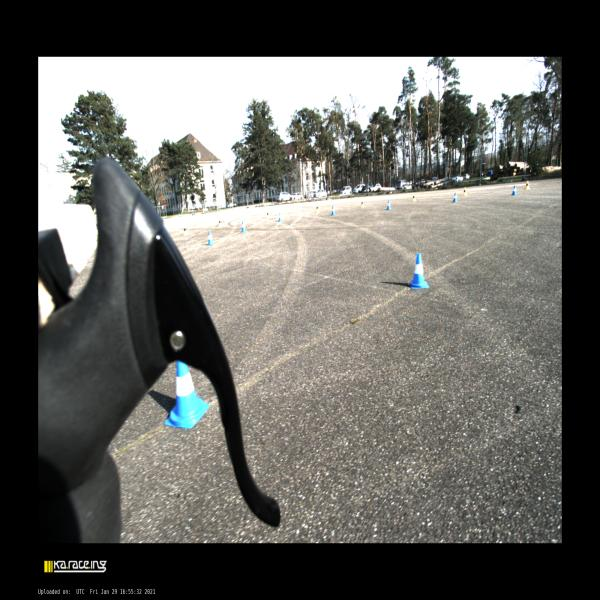blue_cone: (164, 361, 210, 429), (408, 253, 429, 289), (206, 230, 214, 246), (240, 220, 247, 232), (511, 186, 518, 196), (386, 200, 392, 210), (452, 193, 458, 202), (331, 206, 336, 215), (278, 212, 282, 222)
yellow_cone: (462, 187, 468, 196), (525, 180, 530, 190), (183, 227, 188, 235), (412, 194, 416, 202), (316, 204, 320, 212), (218, 220, 222, 228), (360, 200, 364, 207), (267, 213, 269, 218)
